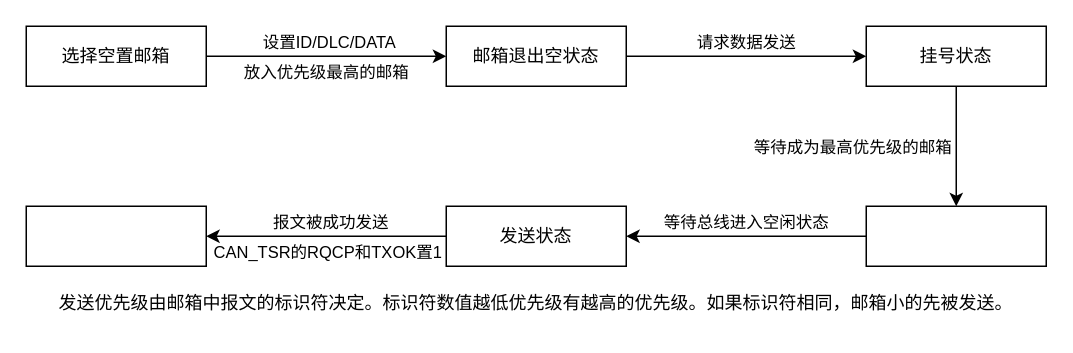
This 1073x353 diagram has some shape labels left out. The box of each missing label's shape, as (x1, y1, x2, y2) in pixels:
空置状态: (25, 205, 206, 266)
预定发送状态: (865, 205, 1046, 266)
